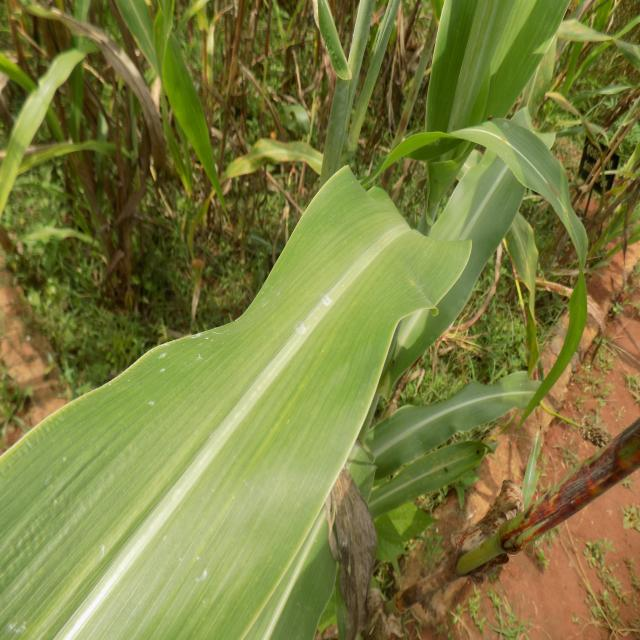millet_healthy: (0, 172, 469, 640)
